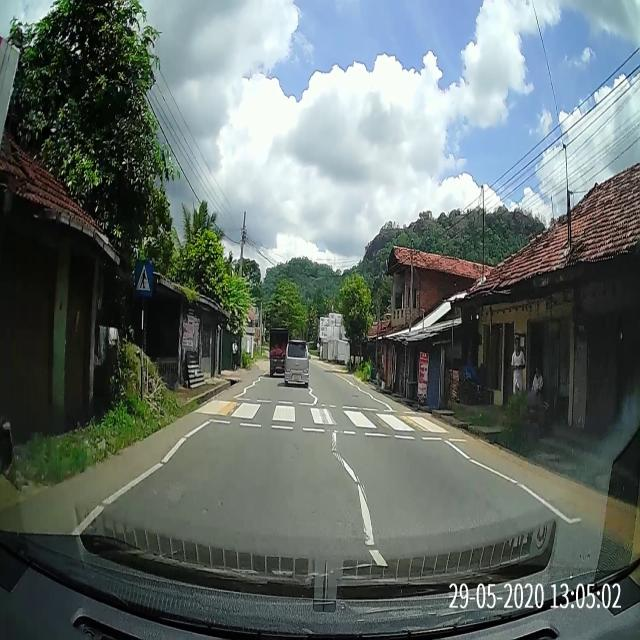Crosswalk: (195, 395, 477, 443)
